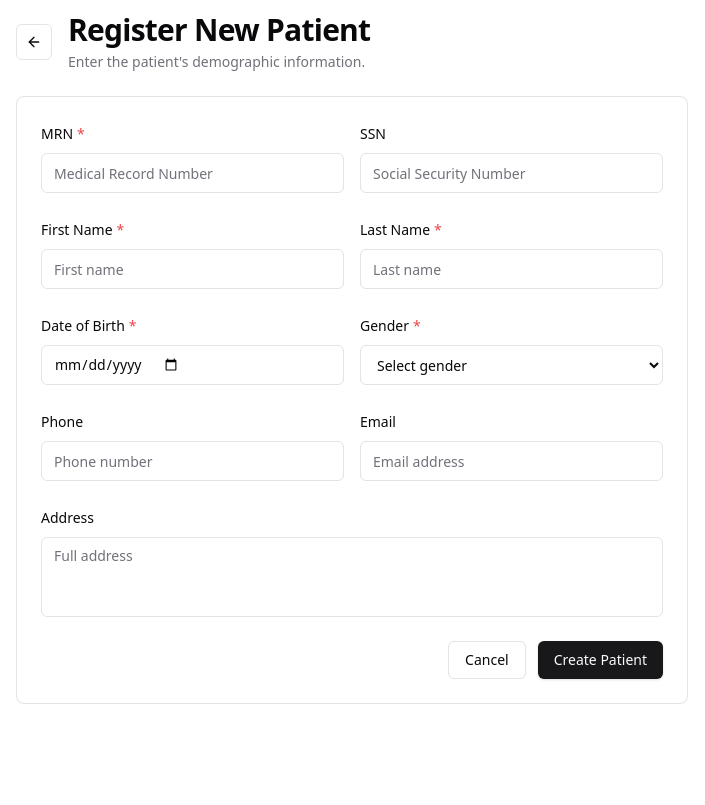
Test: PatientCreatePage › shows validation errors for empty required fields on submit
What coordinates should you click on to do the following:
click the button "Create Patient"
I would click on:
 (600, 660)
Its box is [538,641,663,679].
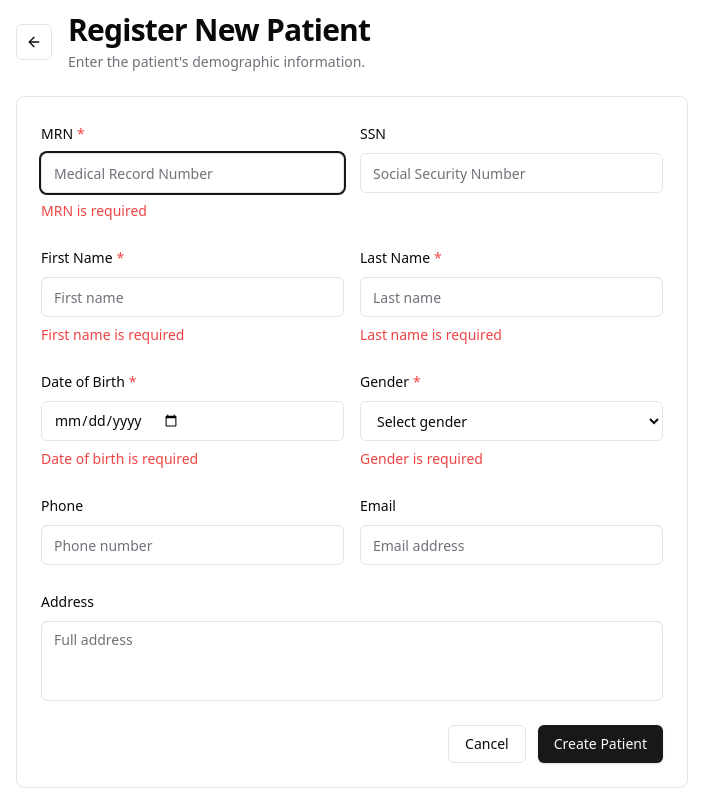
Expected: the text "MRN is required" is shown, [41,201,147,220]
Expected: the text "First name is required" is shown, [41,325,184,344]
Expected: the text "Last name is required" is shown, [360,325,502,344]
